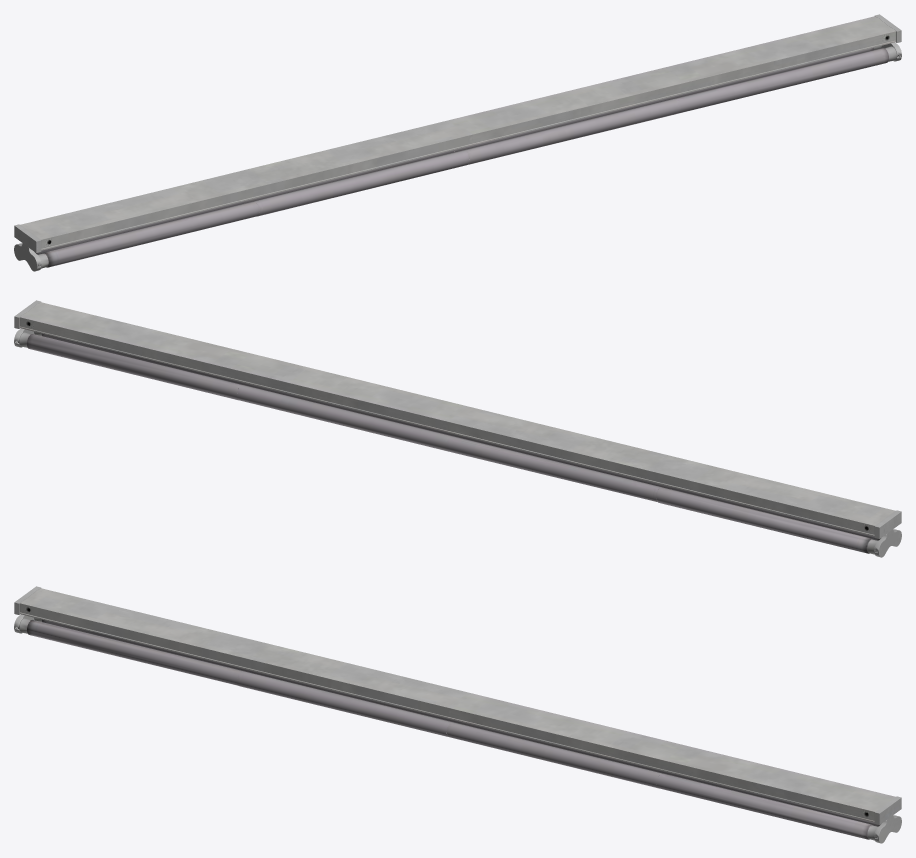
Rendered from mounted_fluorescent_lights_1k.gltf.
3 views of the same model, one above another, from view 1: azimuth 30°, elevation 25°; view 2: azimuth 150°, elevation 25°; view 3: azimuth 330°, elevation 25° (orthographic).
Visible parts, largest first — view 1: mounted_fluorescent_lights_d_LOD0; view 2: mounted_fluorescent_lights_d_LOD0; view 3: mounted_fluorescent_lights_d_LOD0.
Boxes of the visible parts, x1=… form: mounted_fluorescent_lights_d_LOD0: x1=14, y1=14, x2=901, y2=271; mounted_fluorescent_lights_d_LOD0: x1=14, y1=300, x2=901, y2=557; mounted_fluorescent_lights_d_LOD0: x1=14, y1=586, x2=901, y2=843.
Size of what is drawn, in the model's own units: 0.9109 by 0.0324 by 0.0422.
Materials: 2 (2 with a texture image).
